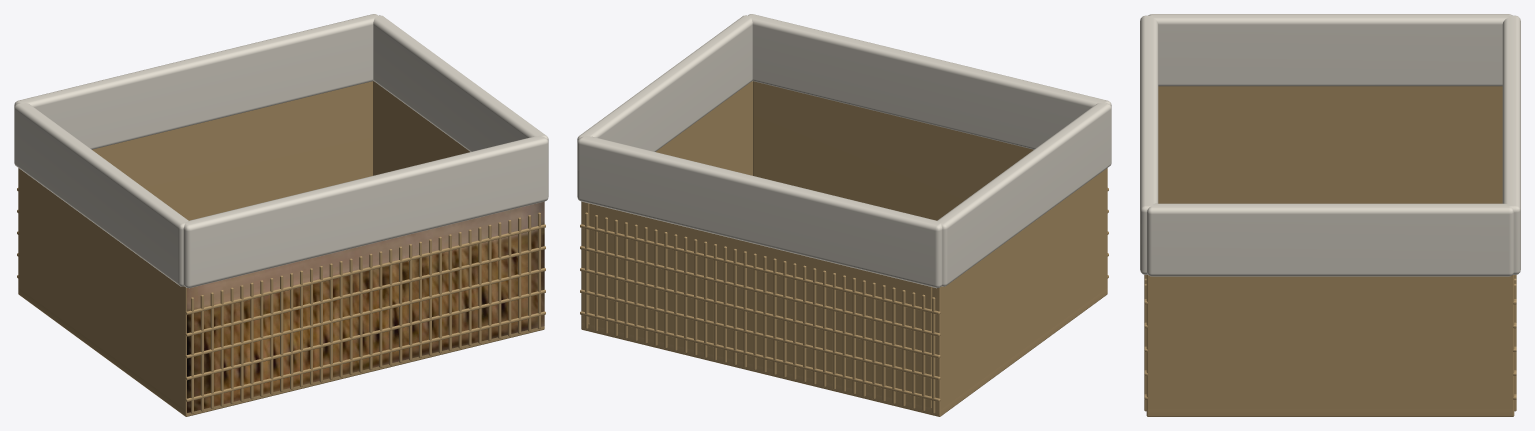
File: pantry_contents__tea_basket.glb
3 views of the same model, side by side, from view 1: azimuth 30°, elevation 25°; view 2: azimuth 150°, elevation 25°; view 3: azimuth 270°, elevation 25° (orthographic). The views are drawn at different scales.
Visible parts, largest first — view 1: tea_basket__body; view 2: tea_basket__body; view 3: tea_basket__body.
Part boxes in pixels (x1,y1,x2,y2): tea_basket__body: (14, 14, 548, 416); tea_basket__body: (577, 14, 1111, 416); tea_basket__body: (1140, 14, 1520, 416).
Size of the model in its own units: 0.1778 by 0.0885 by 0.145.
3 materials, 1 textured.
